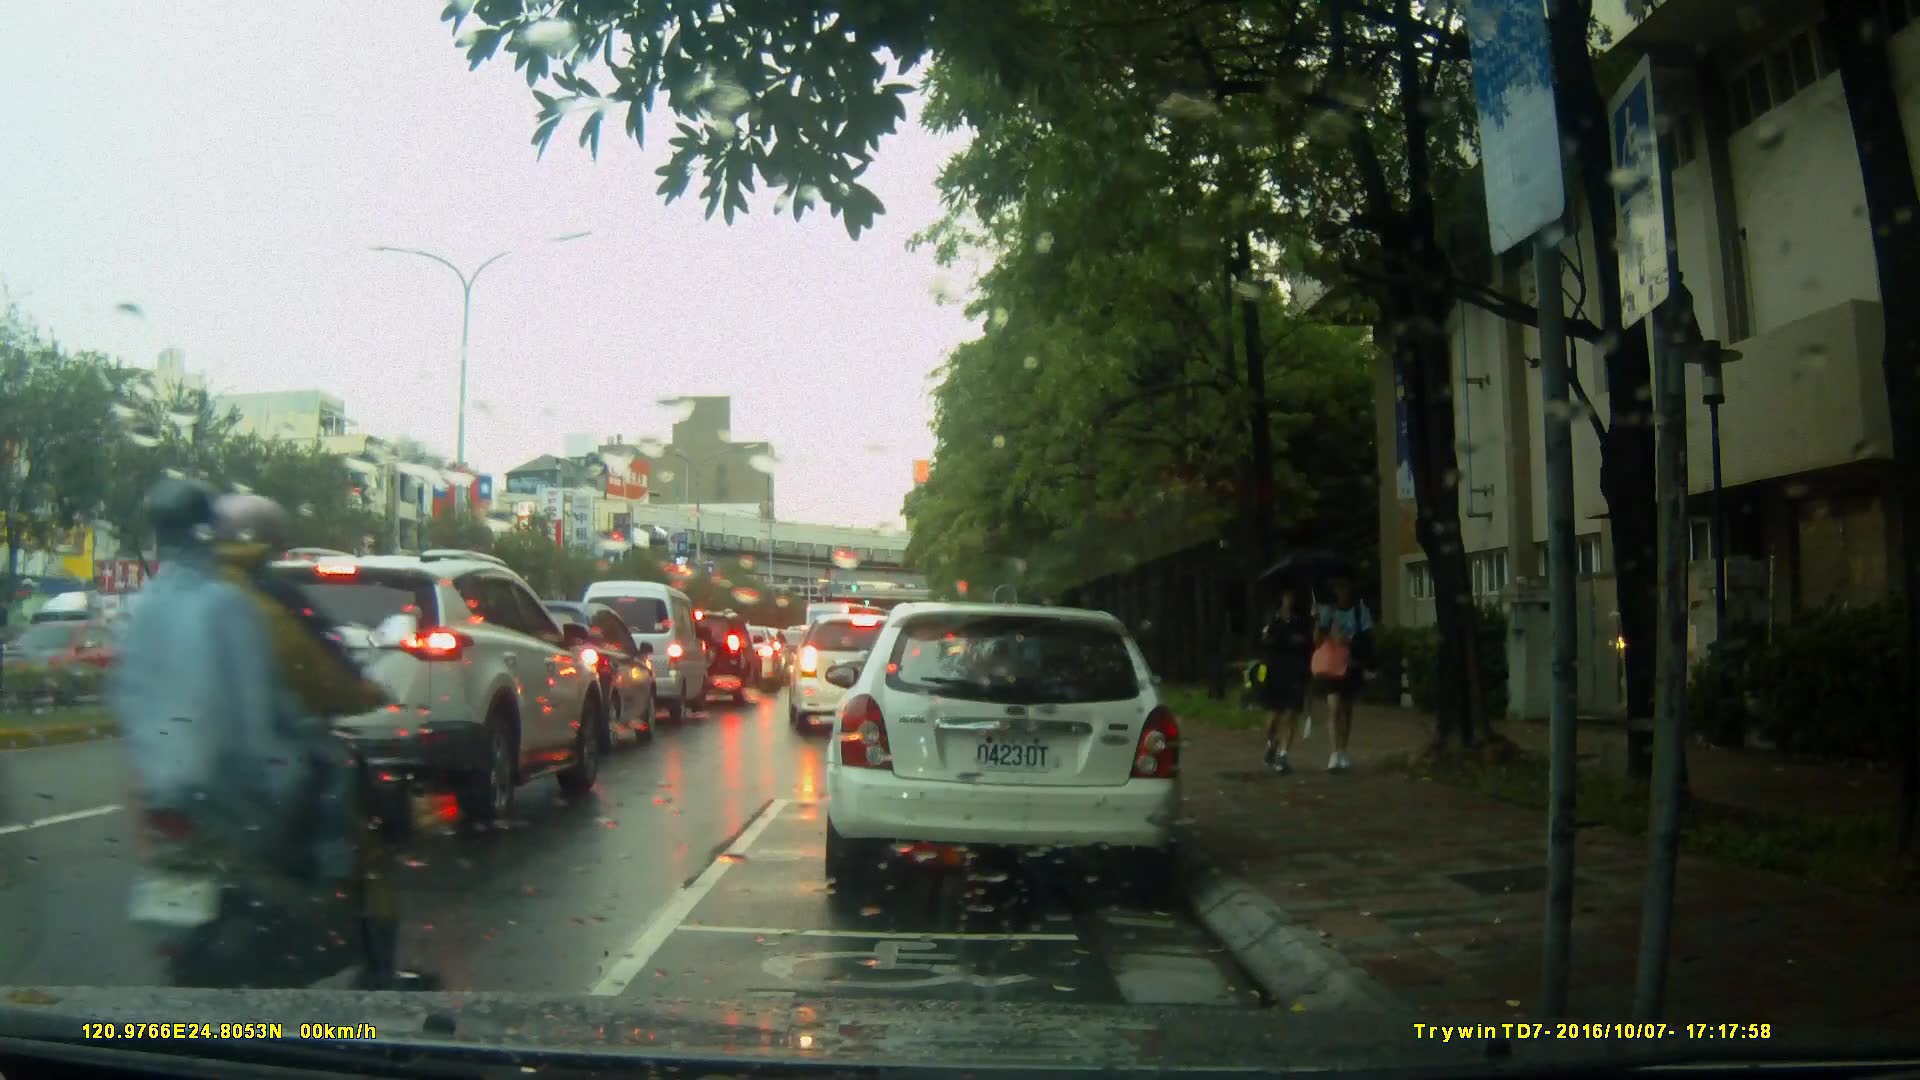pedestrian: (1248, 577, 1324, 780), (1304, 571, 1376, 779)
rider: (112, 475, 409, 1011)
vehicle: (815, 593, 1204, 909), (208, 549, 613, 825), (127, 553, 329, 732), (462, 599, 665, 760), (567, 580, 711, 730), (786, 610, 928, 733), (1, 618, 138, 709), (655, 610, 762, 702)
